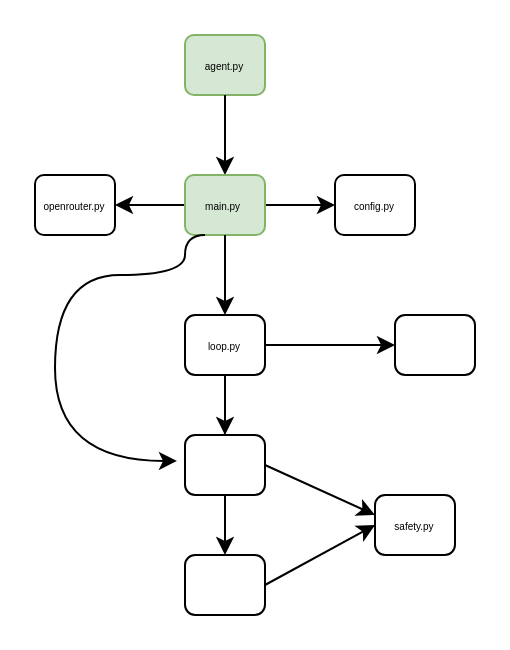
This 510x650 diagram has some shape labels left out. The shapes that lost their labels are listed below. From the top down, each one's centre as x and y in pixels, then its label:
At point (434, 344): "sessions.py".
At point (224, 464): "tools.py".
At point (224, 584): "docker_bash.py".
